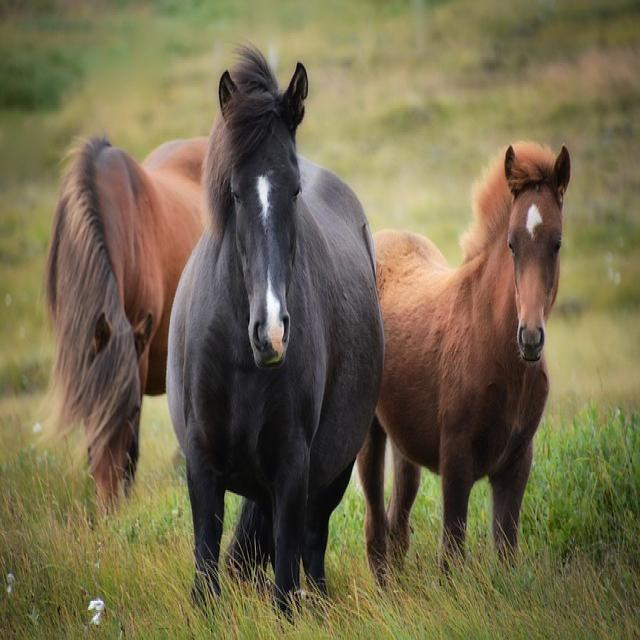Herbivorous: (165, 45, 384, 613), (358, 142, 574, 589), (45, 135, 211, 514)
